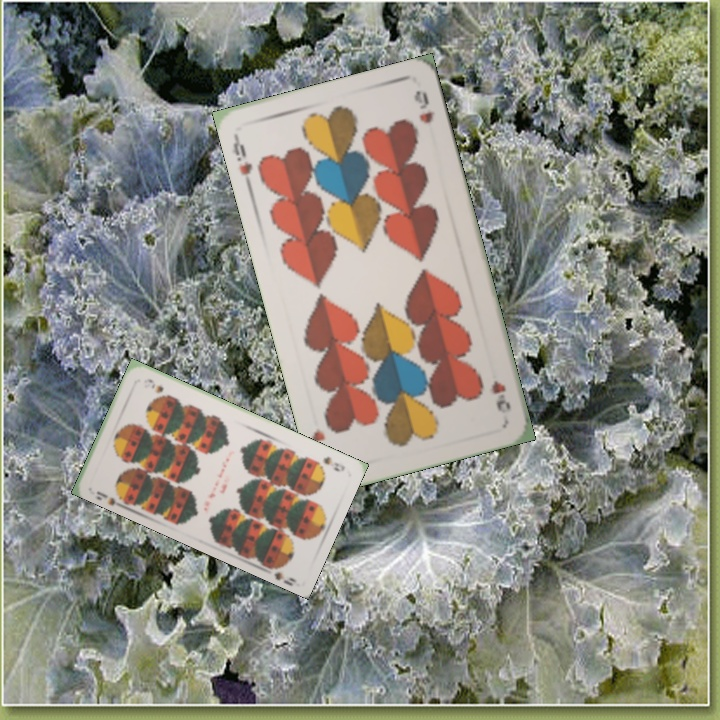H9: (229, 131, 255, 189), (487, 376, 513, 416)
S9: (92, 487, 128, 506), (319, 452, 348, 475)
